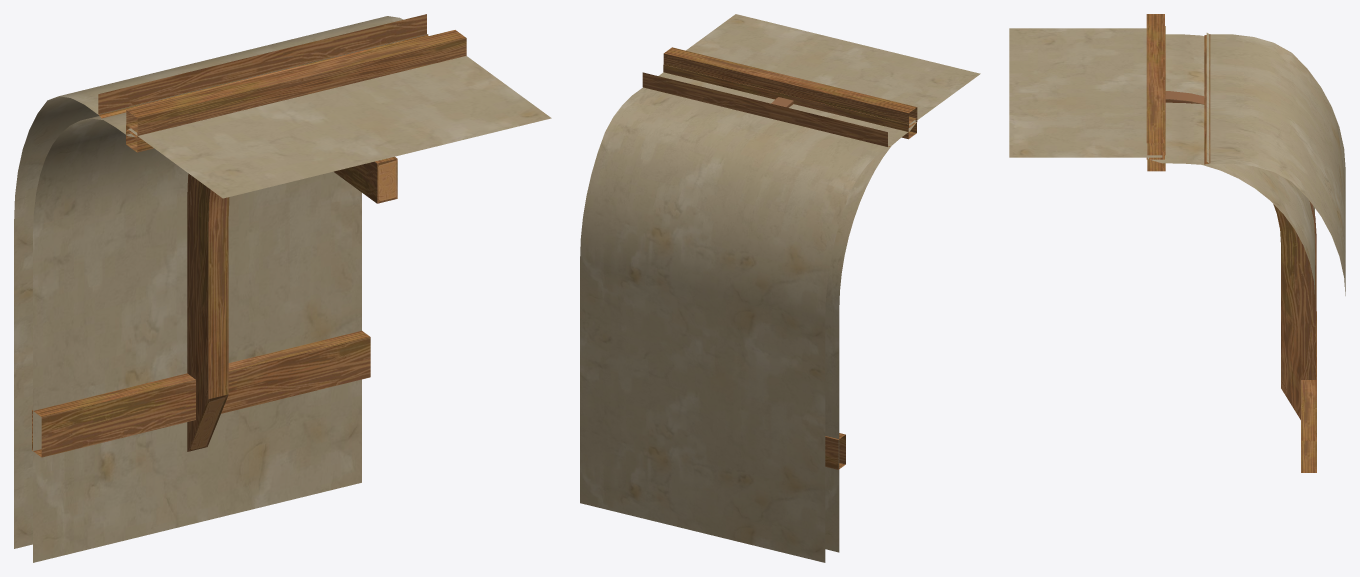
File: Overhang_Plaster_Long.glb
3 renders of one model, left to right at view 1: azimuth 30°, elevation 25°; view 2: azimuth 150°, elevation 25°; view 3: azimuth 270°, elevation 25°, orthographic. The views are drawn at different scales.
Parts seen in each view (by area): view 1: Overhang_Plaster_Long; view 2: Overhang_Plaster_Long; view 3: Overhang_Plaster_Long.
Part boxes in pixels (bbox=[...]): Overhang_Plaster_Long: bbox=[14, 14, 551, 562]; Overhang_Plaster_Long: bbox=[580, 14, 980, 562]; Overhang_Plaster_Long: bbox=[1009, 14, 1345, 472].
Bounding box in the file's own units: 2 × 3.03 × 2.2.
2 materials, 2 textured.
